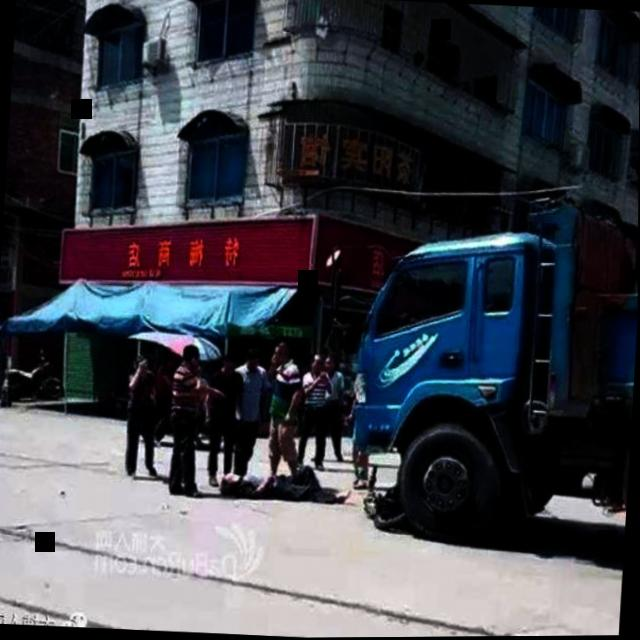Fall-Detected: (204, 451, 373, 516)
